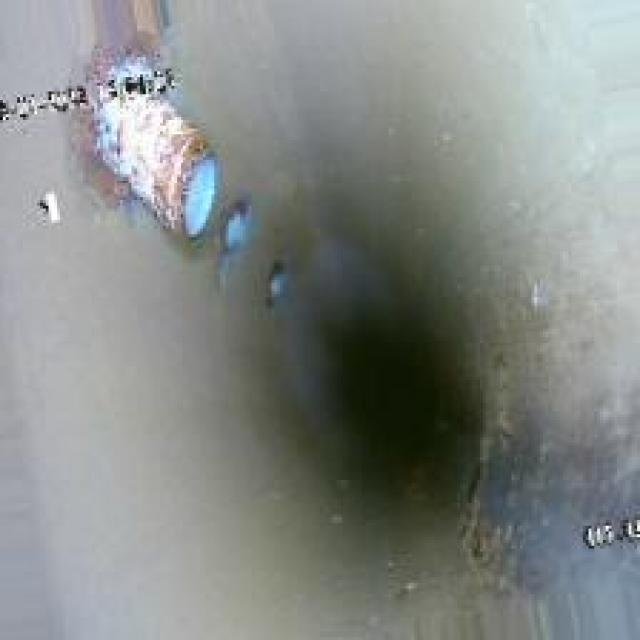ferrule: (95, 72, 212, 255), (220, 191, 254, 260), (263, 248, 303, 306)
